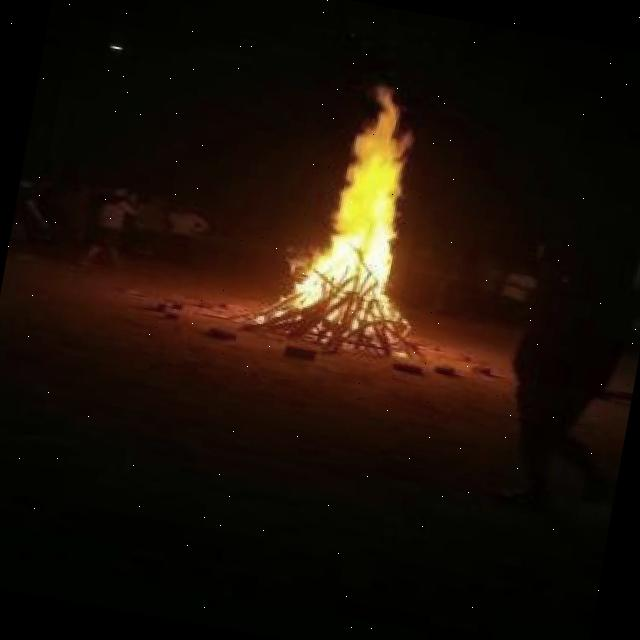fire: (282, 76, 448, 320)
